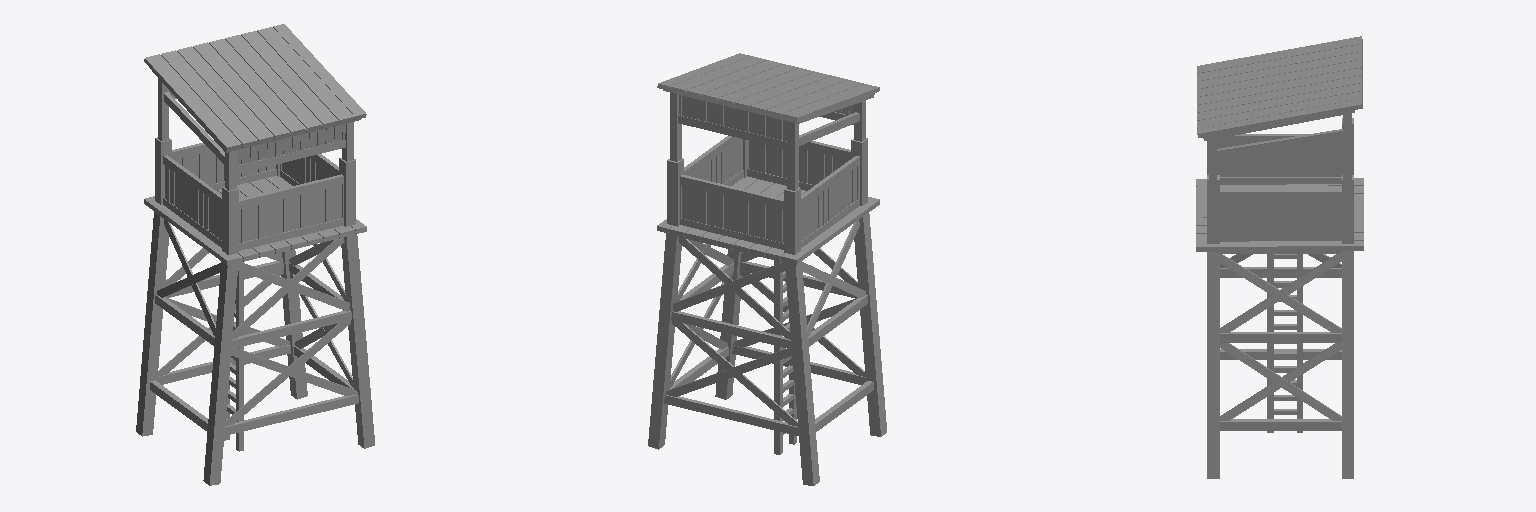
The model's file is Tower_B_.obj.
The picture shows the model from 3 angles: view 1: azimuth 30°, elevation 25°; view 2: azimuth 150°, elevation 25°; view 3: azimuth 270°, elevation 25°; orthographic projection.
Visible parts, largest first — view 1: Cube_Cube.058, legs__Cube.002, legs_.001_Cube.003, legs_.003_Cube.006, Support__Top_.002_Cube.014, wall_E__Cube.036, _Walk_area__Cube.028, Support__Top_.001_Cube.013, wall_E_.003_Cube.040, wall_E_.005_Cube.061, legs_.002_Cube.007, Wallee_support_.014_Cube.019 (+15 smaller); view 2: Cube_Cube.058, legs_.003_Cube.006, legs_.002_Cube.007, legs__Cube.002, Support__Top_.002_Cube.014, wall_E_.001_Cube.038, _Walk_area__Cube.028, Support__Top_.001_Cube.013, wall_E__Cube.036, wall_E_.004_Cube.050, wall_E_.003_Cube.040, legs_.001_Cube.003 (+17 smaller); view 3: Cube_Cube.058, wall_E_.002_Cube.039, legs_.001_Cube.003, _Walk_area__Cube.028, legs_.002_Cube.007, wall_E_.003_Cube.040, Support__Top_.002_Cube.014, Support__Top_.001_Cube.013, Wallee_support_.009_Cube.053, Wallee_support_.020_Cube.059, Wallee_support_.023_Cube.093, Wallee_support_.007_Cube.048 (+9 smaller).
Boxes of the visible parts, <box> form: Cube_Cube.058: <box>144,24,366,151</box>; legs__Cube.002: <box>203,187,238,485</box>; legs_.001_Cube.003: <box>339,158,374,448</box>; legs_.003_Cube.006: <box>136,137,171,436</box>; Support__Top_.002_Cube.014: <box>150,345,358,435</box>; wall_E__Cube.036: <box>239,184,343,242</box>; _Walk_area__Cube.028: <box>144,176,366,265</box>; Support__Top_.001_Cube.013: <box>155,261,351,348</box>; wall_E_.003_Cube.040: <box>164,165,221,239</box>; wall_E_.005_Cube.061: <box>237,124,345,165</box>; legs_.002_Cube.007: <box>276,164,307,399</box>; Wallee_support_.014_Cube.019: <box>225,320,350,425</box>; Cube_Cube.058: <box>657,53,879,121</box>; legs_.003_Cube.006: <box>784,187,819,485</box>; legs_.002_Cube.007: <box>648,158,683,449</box>; legs__Cube.002: <box>851,138,886,436</box>; Support__Top_.002_Cube.014: <box>664,345,873,435</box>; wall_E_.001_Cube.038: <box>680,184,783,242</box>; _Walk_area__Cube.028: <box>657,176,879,264</box>; Support__Top_.001_Cube.013: <box>671,261,867,349</box>; wall_E__Cube.036: <box>748,140,848,184</box>; wall_E_.004_Cube.050: <box>679,95,786,140</box>; wall_E_.003_Cube.040: <box>801,165,859,240</box>; legs_.001_Cube.003: <box>715,139,747,399</box>; Cube_Cube.058: <box>1197,36,1362,137</box>; wall_E_.002_Cube.039: <box>1220,200,1341,233</box>; legs_.001_Cube.003: <box>1207,175,1219,478</box>; _Walk_area__Cube.028: <box>1196,178,1363,251</box>; legs_.002_Cube.007: <box>1342,175,1353,478</box>; wall_E_.003_Cube.040: <box>1220,143,1341,176</box>; Support__Top_.002_Cube.014: <box>1220,349,1341,430</box>; Support__Top_.001_Cube.013: <box>1220,267,1341,342</box>; Wallee_support_.009_Cube.053: <box>1217,129,1342,158</box>; Wallee_support_.020_Cube.059: <box>1220,254,1341,332</box>; Wallee_support_.023_Cube.093: <box>1220,343,1341,420</box>; Wallee_support_.007_Cube.048: <box>1220,190,1341,199</box>.
Size of the model in its own units: 6.11 by 13.07 by 5.36.